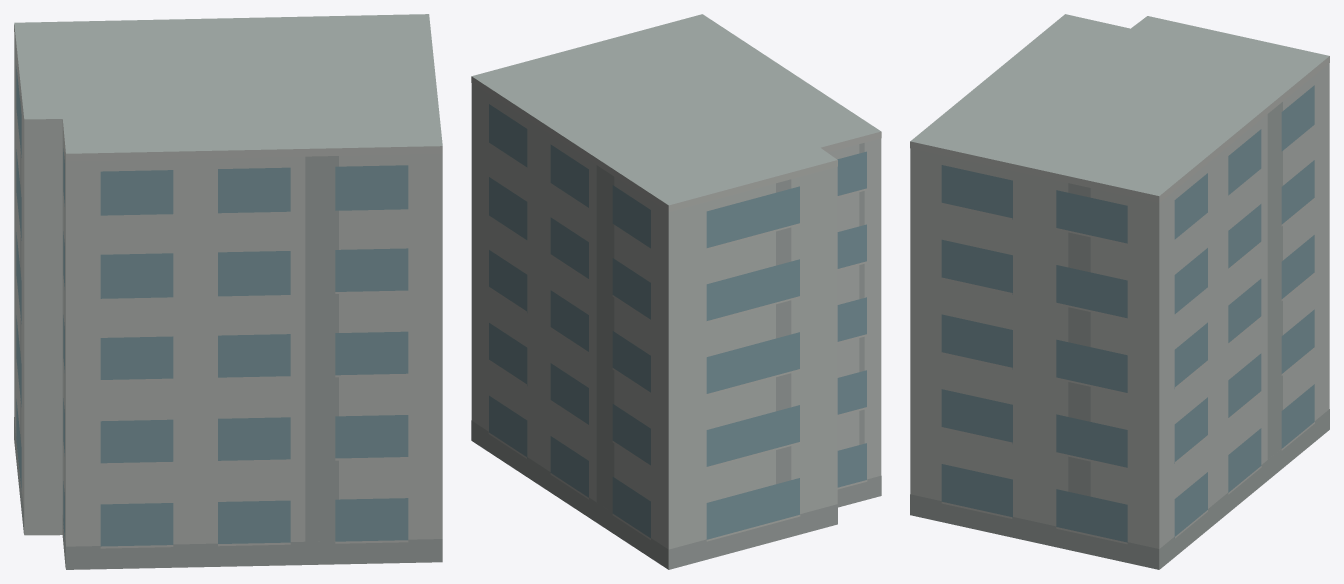
The model's file is survey-upis-32892422.glb.
The picture shows the model from 3 angles, left to right: view 1: azimuth 30°, elevation 25°; view 2: azimuth 150°, elevation 25°; view 3: azimuth 270°, elevation 25°; orthographic projection. The views are drawn at different scales.
Visible parts, largest first — view 1: survey-upis-32892422.tmp; view 2: survey-upis-32892422.tmp; view 3: survey-upis-32892422.tmp.
Boxes of the visible parts, x1,y1,x2,y2 form: survey-upis-32892422.tmp: (14,14,442,569); survey-upis-32892422.tmp: (471,14,881,569); survey-upis-32892422.tmp: (910,14,1329,569).
Bounding box in the file's own units: 13.7 × 13.1 × 13.34.
